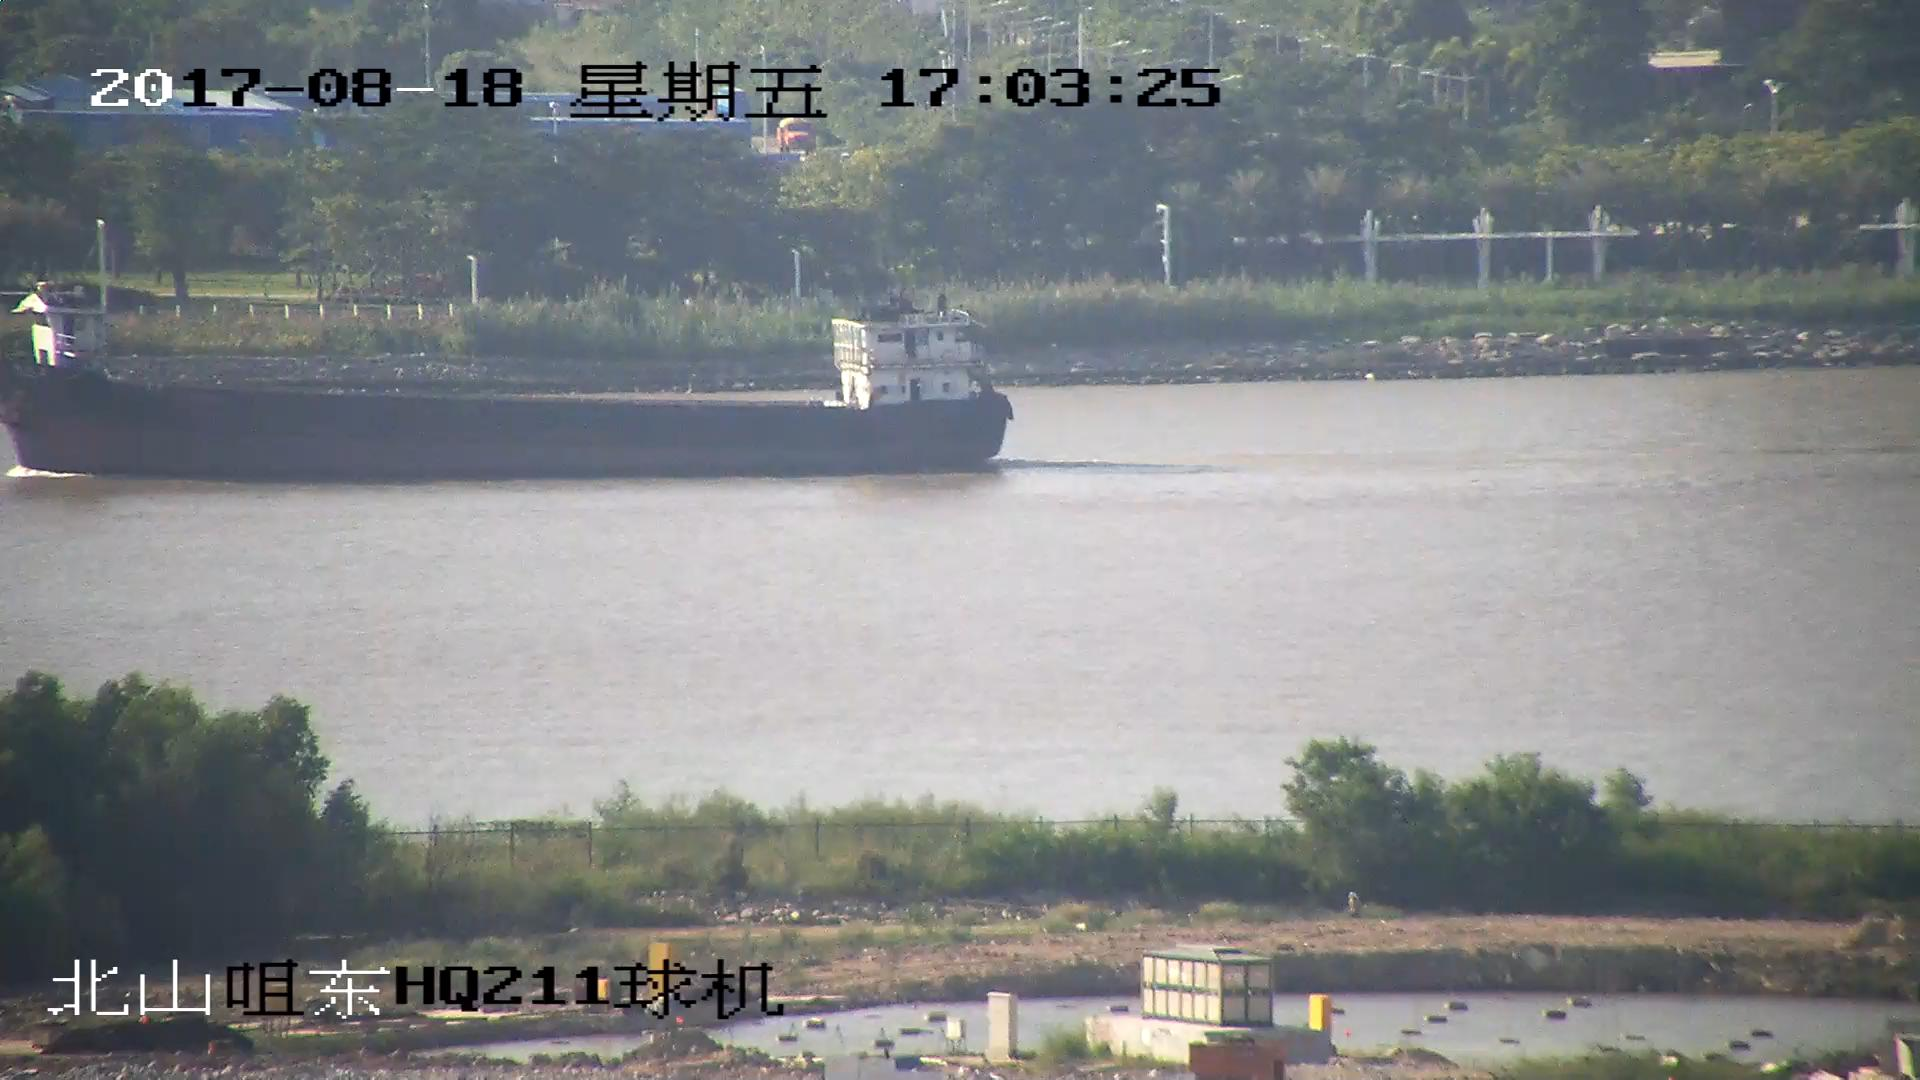general cargo ship: (1, 294, 1019, 477)
